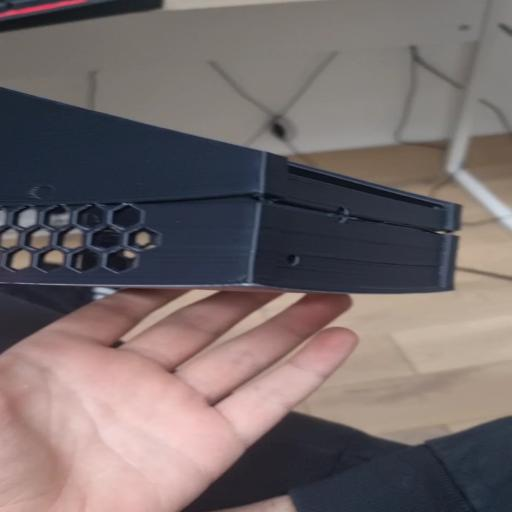cracks: (174, 186, 458, 242)
